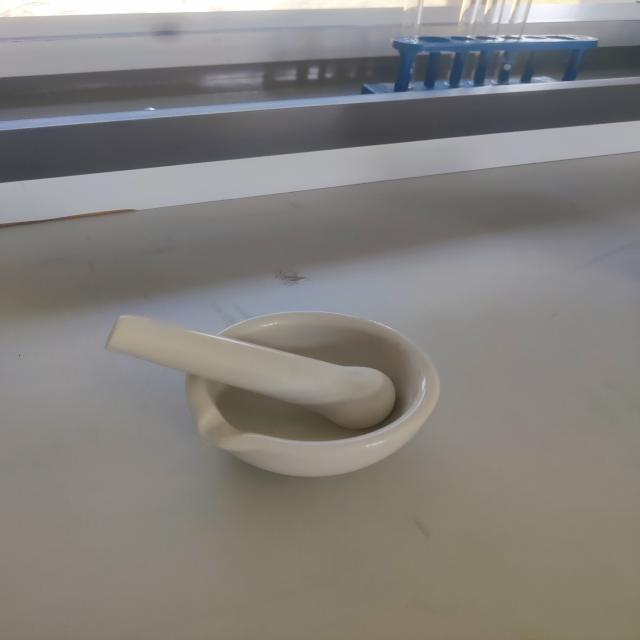Porcelain_Mortar Pestle: (90, 285, 497, 504)
